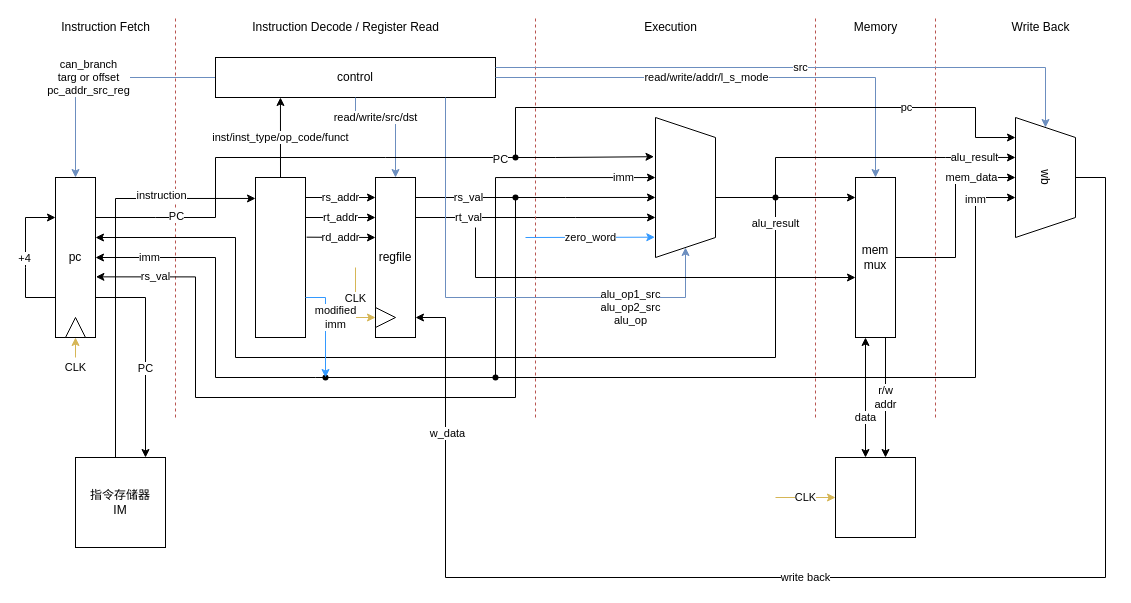
The diagram is 1131 pixels wide and 603 high, and some of its shapes have lost their labels. Each missing label, with the centre of its shape:
"decoder" goes at (280,257).
"mux_and_alu" goes at (685,187).
"数据存储器 DM" goes at (875,497).
